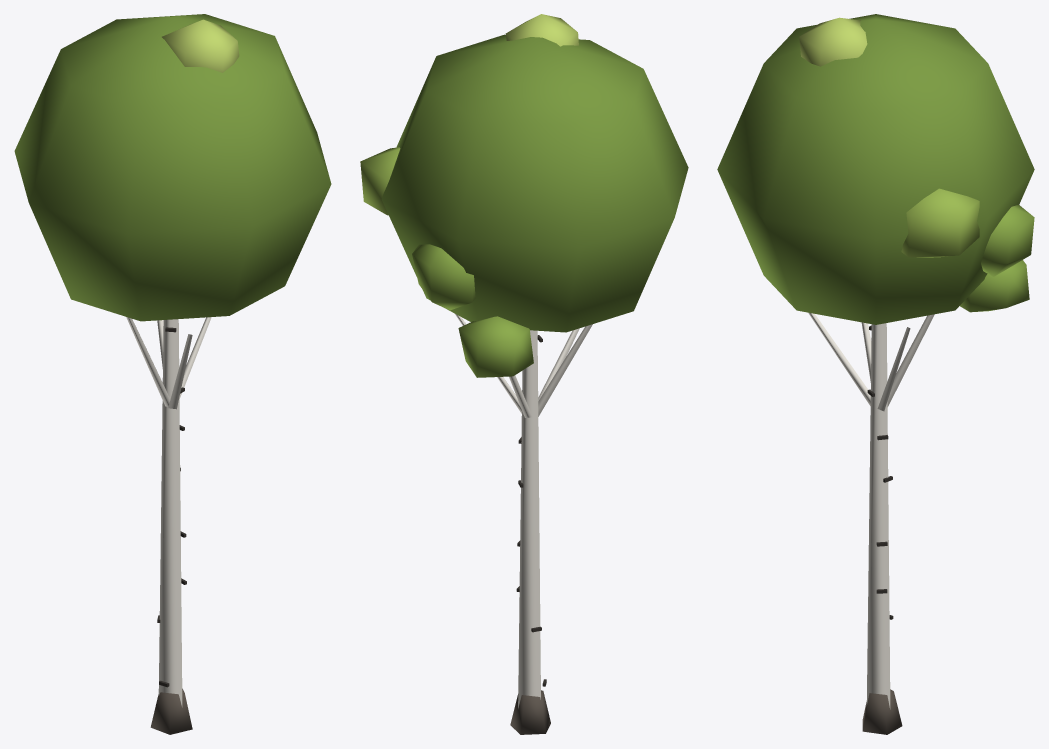
File: birch.far.glb
The picture shows the model from 3 angles, left to right: view 1: azimuth 30°, elevation 25°; view 2: azimuth 150°, elevation 25°; view 3: azimuth 270°, elevation 25°; orthographic projection. The views are drawn at different scales.
Parts seen in each view (by area): view 1: birch; view 2: birch; view 3: birch.
Boxes of the visible parts, x1=… form: birch: x1=14, y1=14, x2=331, y2=734; birch: x1=360, y1=14, x2=688, y2=734; birch: x1=717, y1=14, x2=1034, y2=734.
Bounding box in the file's own units: 3.44 × 8.18 × 3.3.
